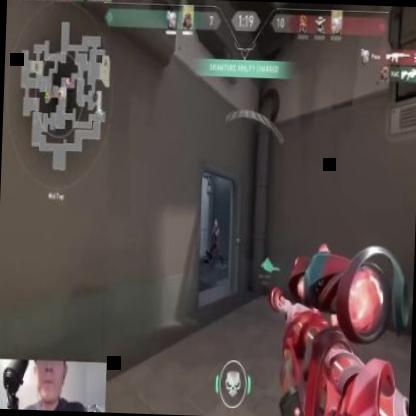enemy: (206, 219, 226, 271)
enemy_head: (214, 220, 218, 228)
